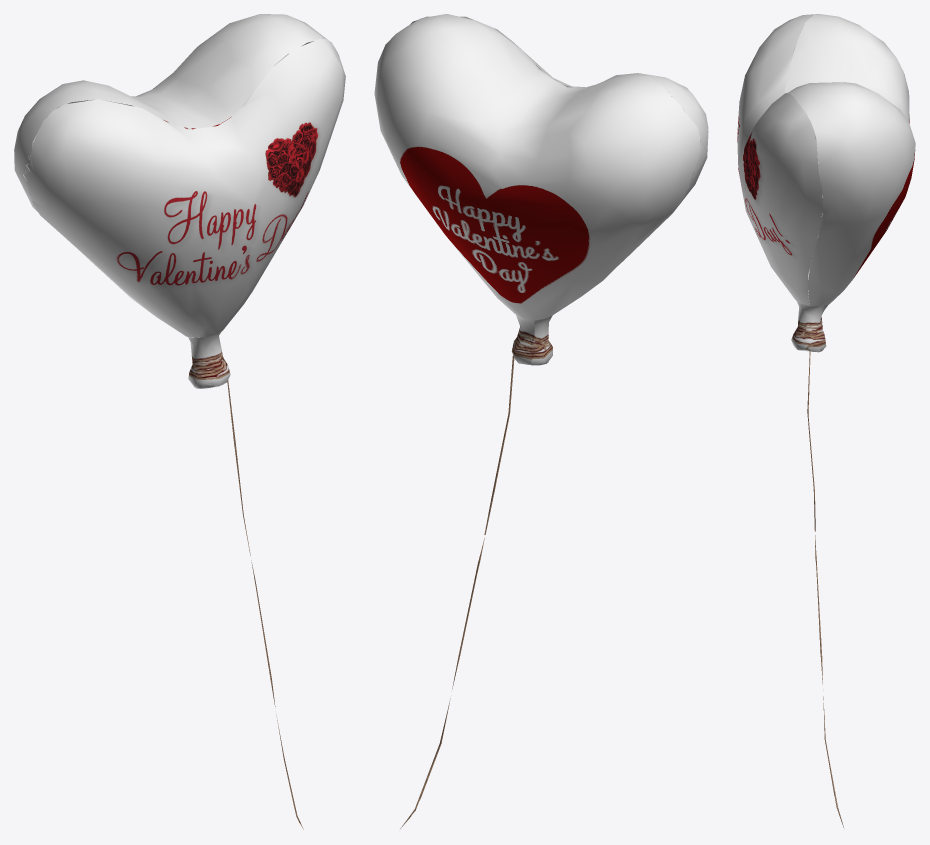
Rendered from globo1.glb.
3 views of the same model, side by side, from view 1: azimuth 30°, elevation 25°; view 2: azimuth 150°, elevation 25°; view 3: azimuth 270°, elevation 25° (orthographic). The views are drawn at different scales.
Visible parts, largest first — view 1: baloon1; view 2: baloon1; view 3: baloon1.
Part boxes in pixels (x1,y1,x2,y2): baloon1: (14, 14, 345, 829); baloon1: (374, 14, 708, 828); baloon1: (737, 14, 915, 827).
Bounding box in the file's own units: 5.52 × 13.89 × 3.09.
Materials: 1 (1 with a texture image).
